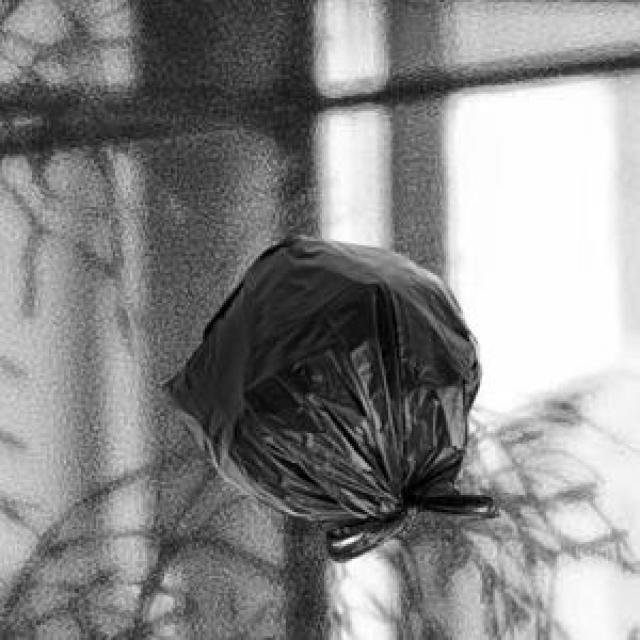miscellaneous trash: (160, 230, 495, 557)
